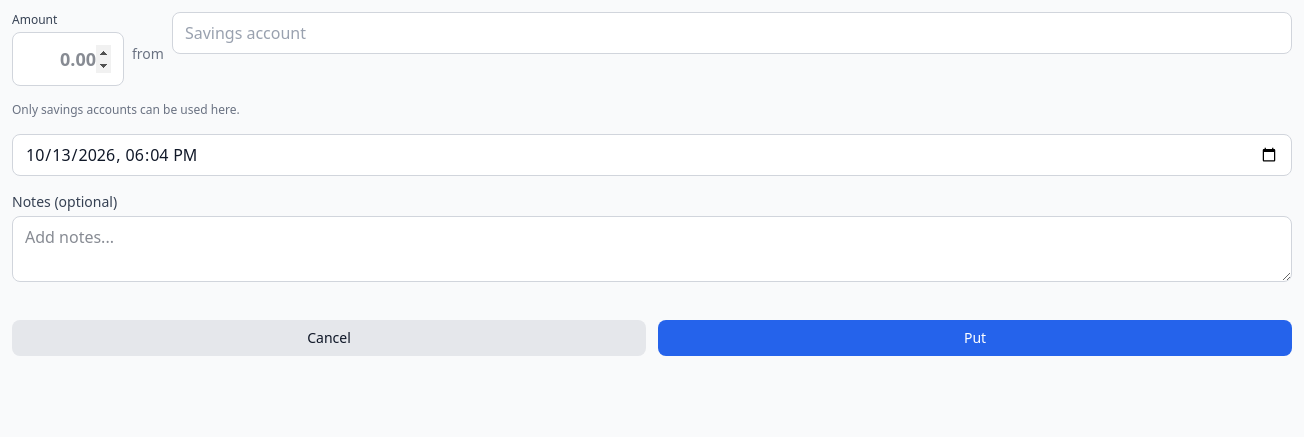
Test: GoalPutTakeForm › shows validation errors when submitting with no amount or account chosen
Click the button "Put" at (975, 338), box [658,320,1292,356]
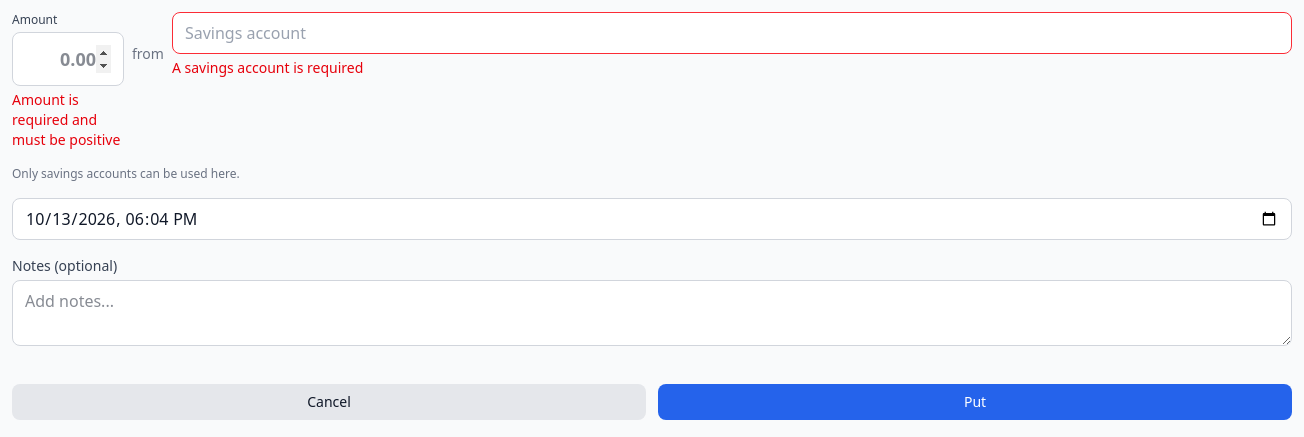
Expected: the text "Amount is required and must be positive" is shown, [12,90,124,150]
Expected: the text "A savings account is required" is shown, [172,58,363,77]
